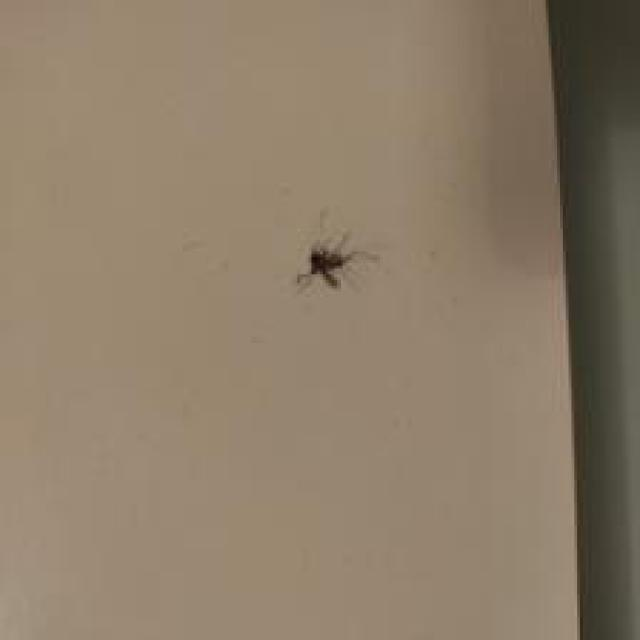Culex: (294, 230, 377, 293)
